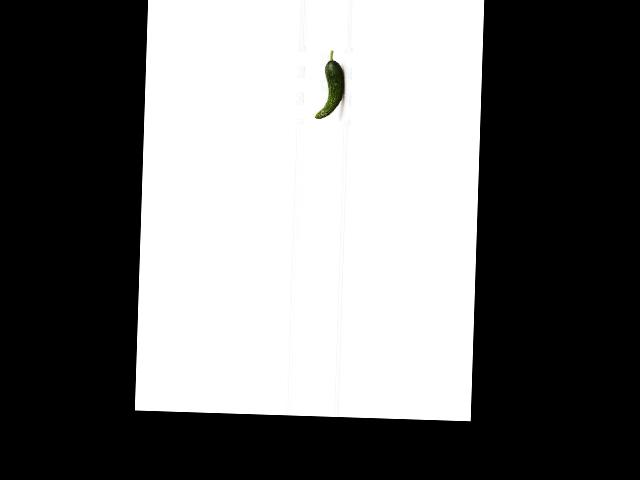cucumber: (315, 49, 345, 119)
